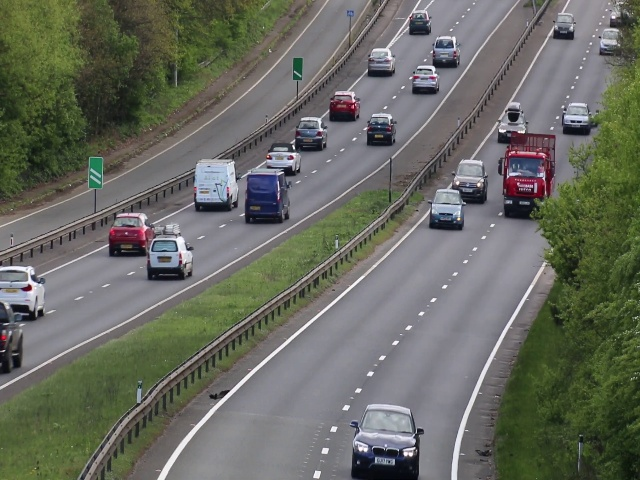car: (348, 399, 424, 480), (500, 147, 548, 222), (190, 154, 241, 214), (242, 169, 290, 224), (148, 232, 195, 284), (1, 266, 48, 314), (109, 208, 155, 256), (452, 157, 488, 203), (429, 187, 465, 230), (293, 114, 329, 151), (262, 142, 304, 172), (327, 87, 359, 124), (495, 107, 529, 140), (365, 111, 396, 146), (562, 97, 588, 137), (409, 63, 440, 95), (430, 35, 459, 67), (368, 43, 396, 76), (600, 25, 619, 59), (408, 7, 429, 35), (554, 12, 574, 40)
